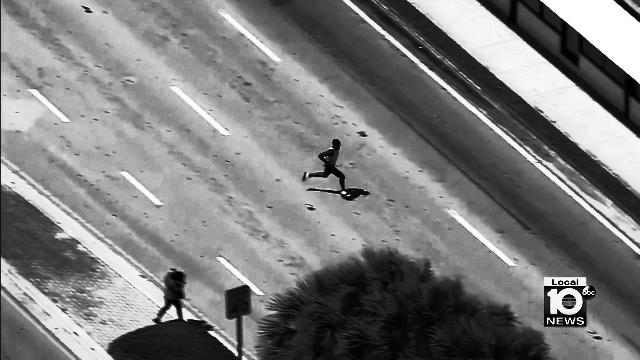berlari: (298, 134, 354, 204)
